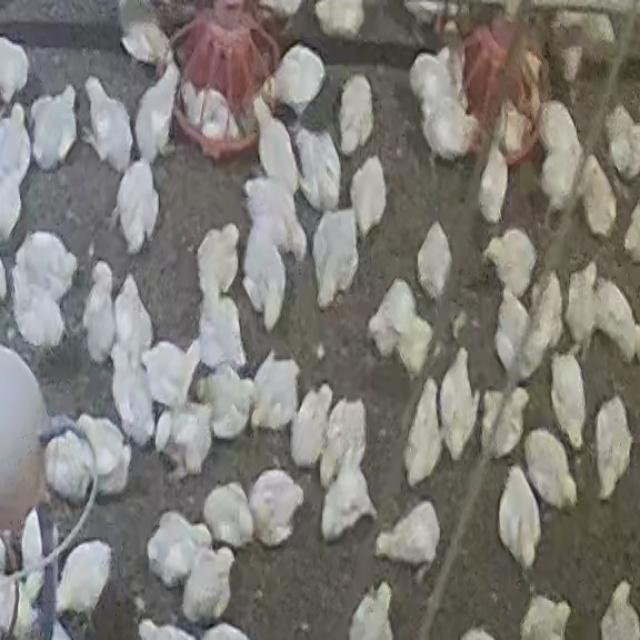chicken: (240, 180, 300, 326), (320, 446, 378, 542), (82, 76, 135, 175), (146, 510, 212, 589), (254, 96, 303, 202), (109, 342, 155, 452), (320, 395, 371, 494), (180, 540, 238, 626), (516, 279, 562, 387), (496, 466, 543, 571), (136, 58, 182, 164), (110, 160, 160, 256), (374, 501, 442, 571), (247, 468, 306, 548), (56, 538, 114, 619), (522, 428, 577, 513), (78, 414, 132, 499), (437, 350, 477, 464), (591, 277, 640, 370), (312, 211, 358, 310), (592, 396, 634, 504), (142, 338, 199, 416), (198, 365, 255, 443), (404, 378, 444, 488), (29, 84, 79, 172), (198, 290, 248, 378), (0, 103, 32, 240), (250, 354, 301, 439), (481, 226, 537, 302), (492, 286, 533, 389), (294, 127, 344, 211), (549, 352, 589, 456), (178, 79, 238, 147), (270, 43, 326, 115), (201, 481, 257, 552), (114, 271, 154, 370), (289, 383, 334, 469), (81, 259, 117, 365), (195, 226, 241, 308), (367, 281, 415, 358), (575, 152, 617, 240), (483, 384, 530, 462), (12, 273, 61, 346), (564, 262, 600, 361), (164, 404, 211, 477), (19, 232, 75, 293), (350, 153, 389, 239), (419, 101, 473, 160), (535, 94, 583, 160), (42, 436, 90, 502), (338, 74, 376, 155), (122, 0, 168, 64), (604, 104, 640, 183), (348, 581, 396, 640), (476, 142, 510, 225), (418, 217, 451, 298), (536, 152, 576, 214), (397, 314, 434, 378), (520, 594, 570, 638), (0, 34, 30, 107), (409, 52, 448, 105), (319, 0, 367, 38), (495, 107, 526, 151), (578, 11, 616, 46)
